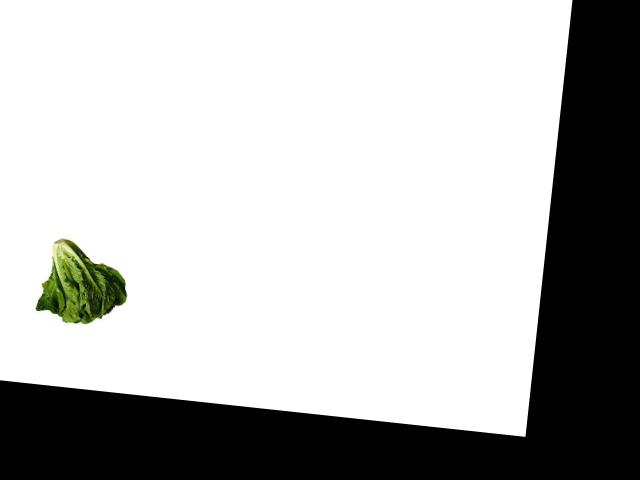lettuce: (32, 231, 133, 332)
